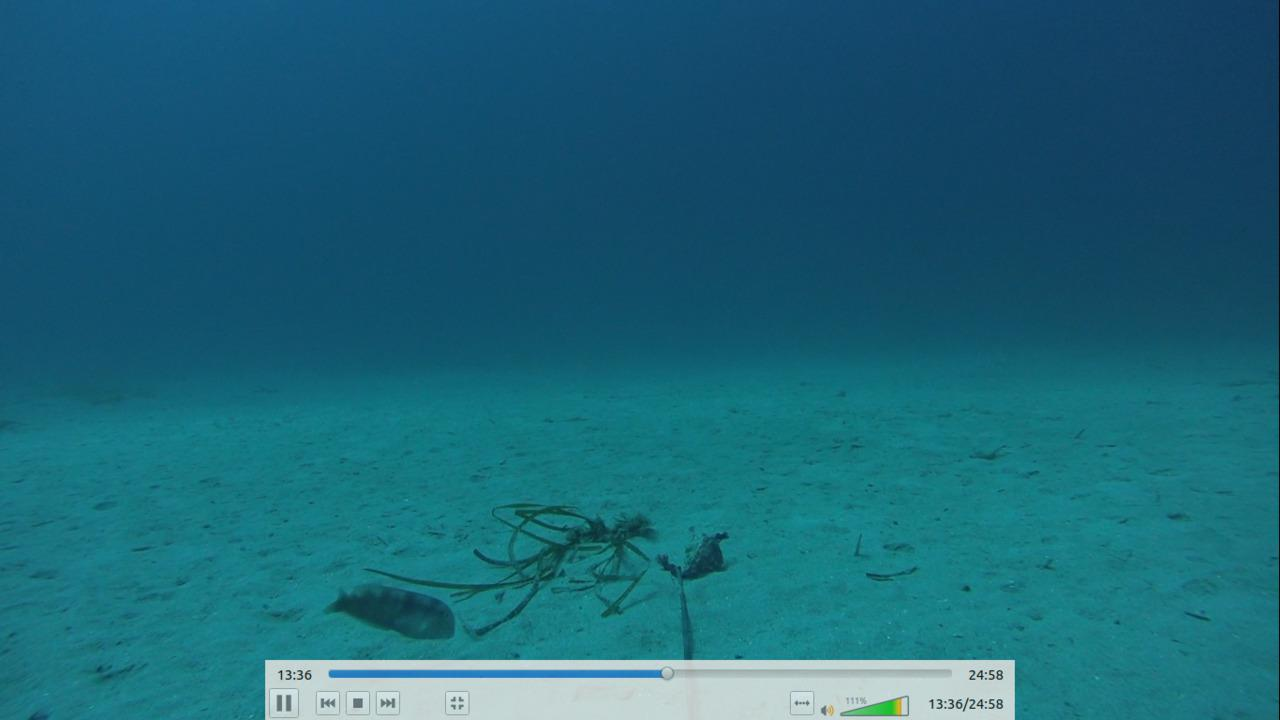raor: (319, 576, 458, 643)
